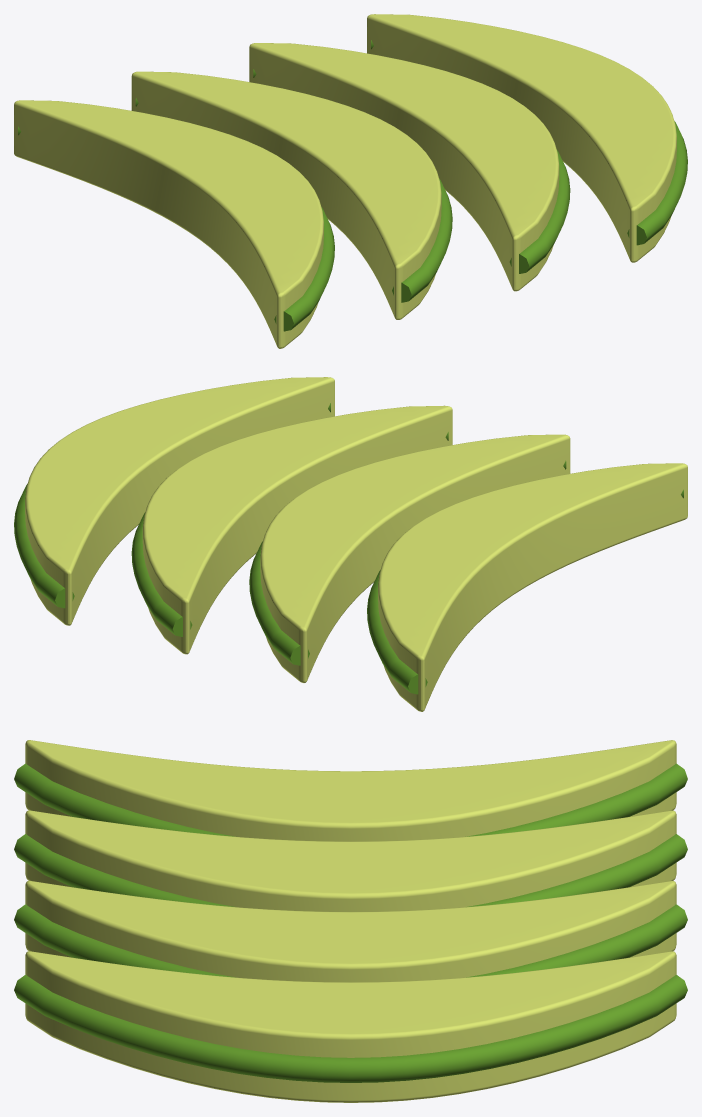
The model's file is item_avocado.glb.
3 views of the same model, one above another, from view 1: azimuth 30°, elevation 25°; view 2: azimuth 150°, elevation 25°; view 3: azimuth 270°, elevation 25° (orthographic). The views are drawn at different scales.
Parts seen in each view (by area): view 1: アボカド三日月スライス; view 2: アボカド三日月スライス; view 3: アボカド三日月スライス.
Part boxes in pixels (bbox=[...]): アボカド三日月スライス: bbox=[14, 14, 687, 348]; アボカド三日月スライス: bbox=[14, 377, 687, 711]; アボカド三日月スライス: bbox=[14, 740, 687, 1102].
Size of the model in its own units: 0.9482 by 0.1 by 0.8903.
